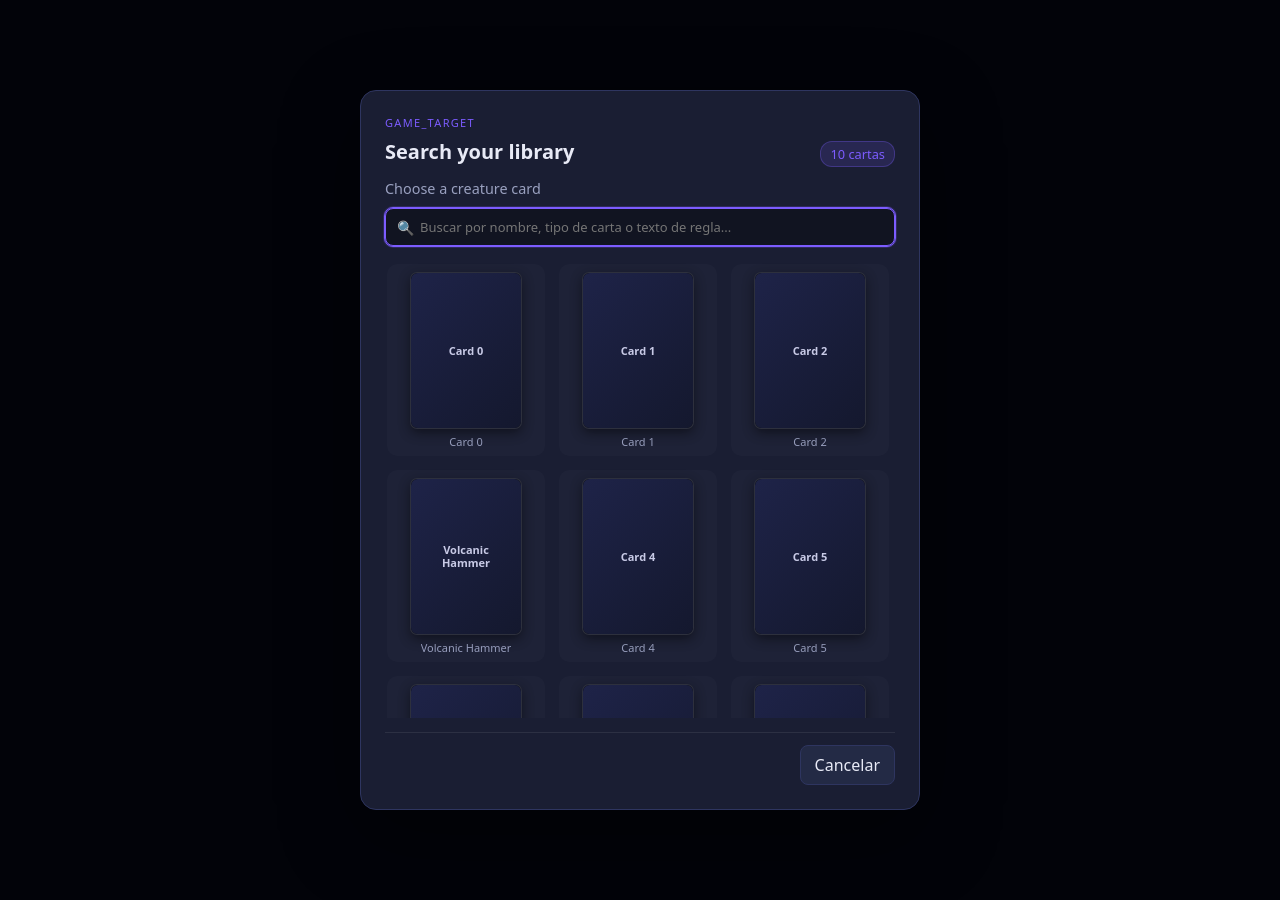
Scenario: CardGrid › filters cards by name
Type "Volcanic" into the field with placeholder "Buscar por nombre, tipo de carta o texto de regla..." at (640, 227), box [385, 208, 895, 246]
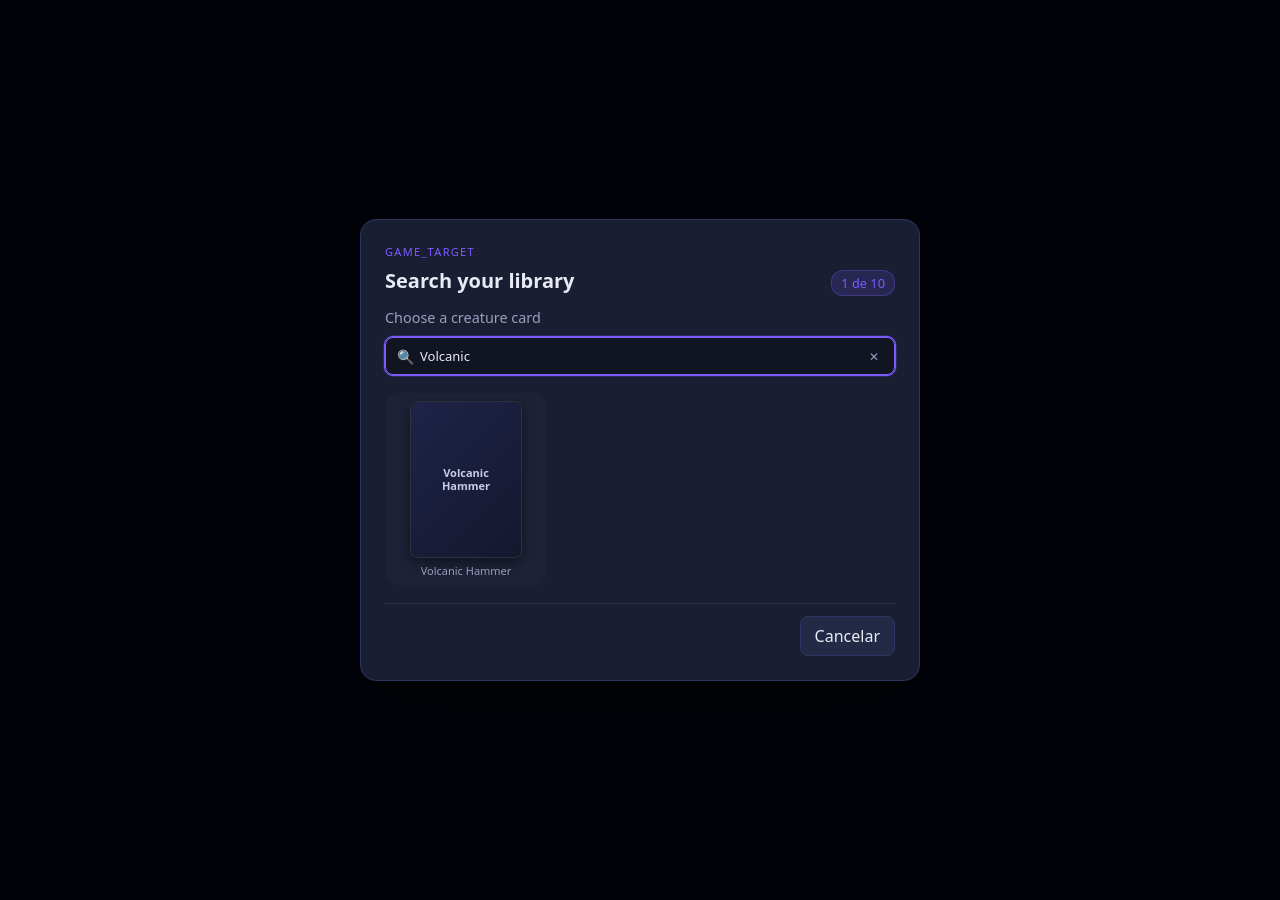
Expected: the text "Volcanic Hammer" is shown, [442, 465, 490, 493]
Expected: the text "Card 0" is gone
